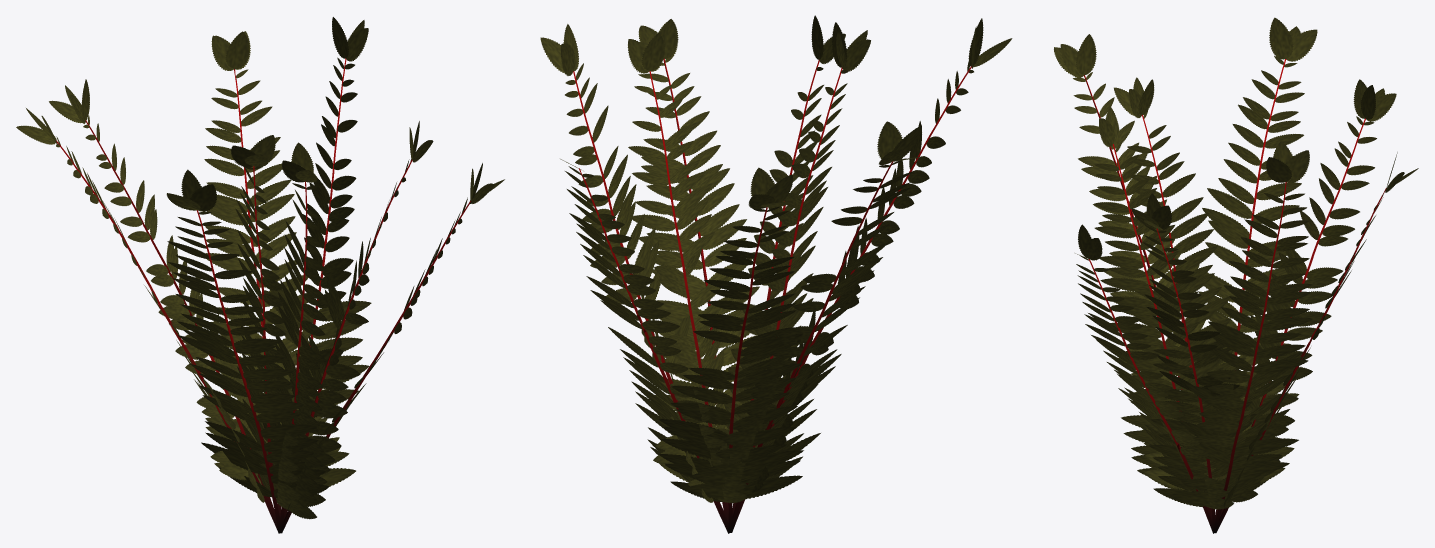
File: royal_fern_v02.fbx
3 renders of one model, left to right at view 1: azimuth 30°, elevation 25°; view 2: azimuth 150°, elevation 25°; view 3: azimuth 270°, elevation 25°, orthographic. The views are drawn at different scales.
Visible parts, largest first — view 1: royal_fern_v02; view 2: royal_fern_v02; view 3: royal_fern_v02.
Part boxes in pixels (x1,y1,x2,y2): royal_fern_v02: [16, 17, 504, 533]; royal_fern_v02: [540, 15, 1012, 533]; royal_fern_v02: [1054, 17, 1418, 533].
Size of the model in its own units: 126 by 145 by 113.
